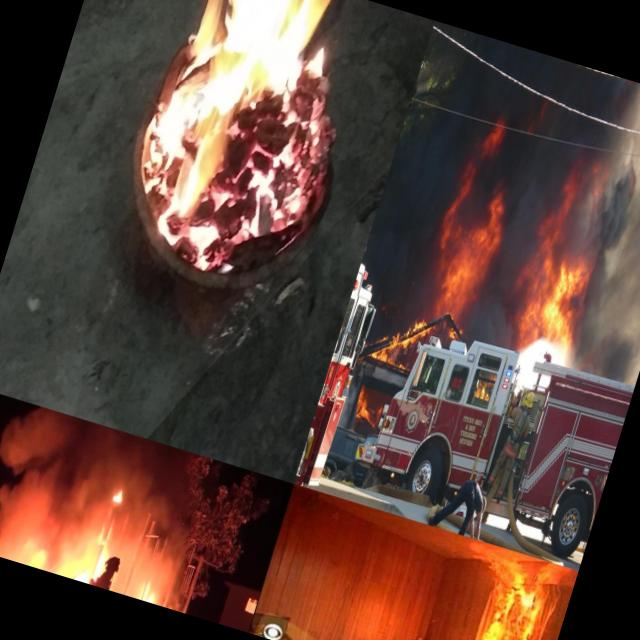fire: (101, 0, 342, 288), (260, 58, 372, 272), (414, 175, 516, 338), (514, 219, 606, 358), (464, 558, 557, 640), (368, 308, 430, 372), (461, 108, 512, 184), (350, 381, 388, 429), (106, 476, 132, 518), (24, 546, 62, 574), (470, 377, 494, 407), (138, 576, 162, 604)
smoke: (503, 58, 640, 263), (555, 83, 640, 388), (0, 398, 130, 561), (112, 465, 196, 575), (158, 569, 208, 617), (0, 526, 31, 564)
